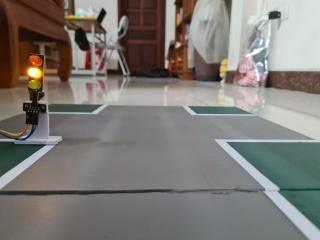yellow: (21, 46, 49, 102)
